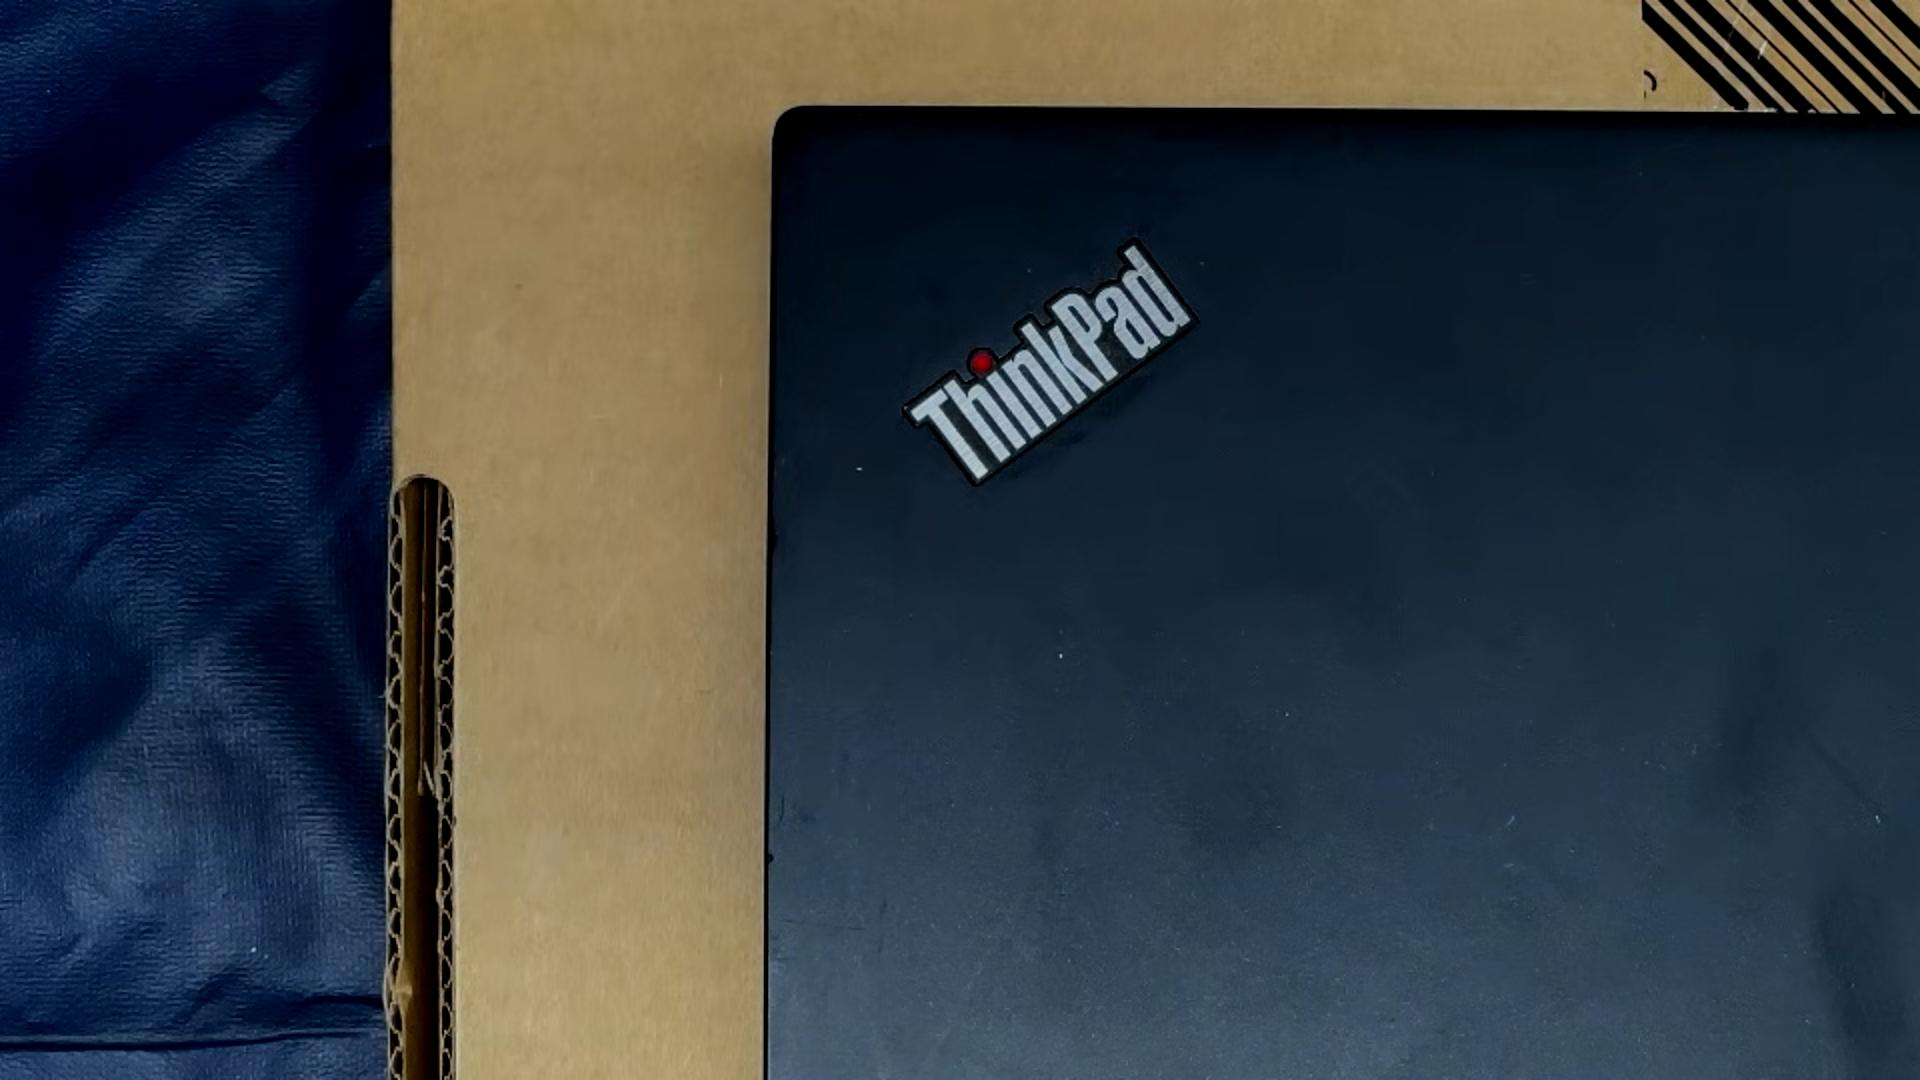chip: (1873, 812, 1886, 827), (766, 851, 778, 866), (853, 464, 866, 473), (1056, 649, 1065, 661)
scratches: (769, 789, 786, 831), (1502, 814, 1516, 827)
